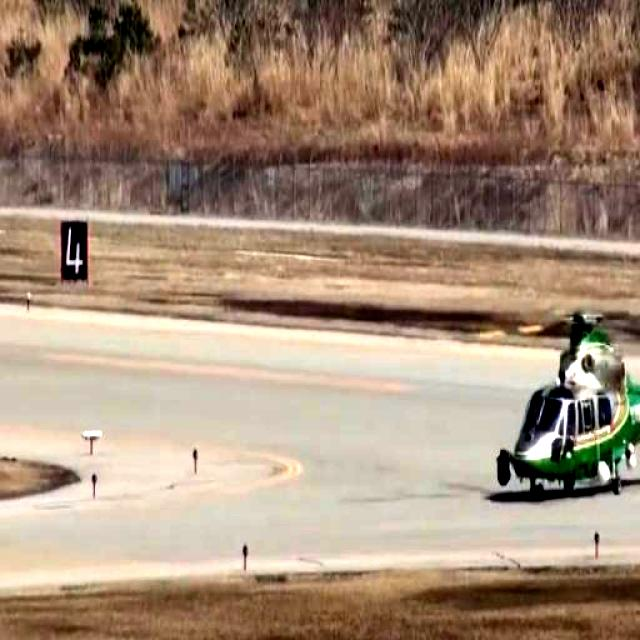drone: (488, 270, 640, 510)
